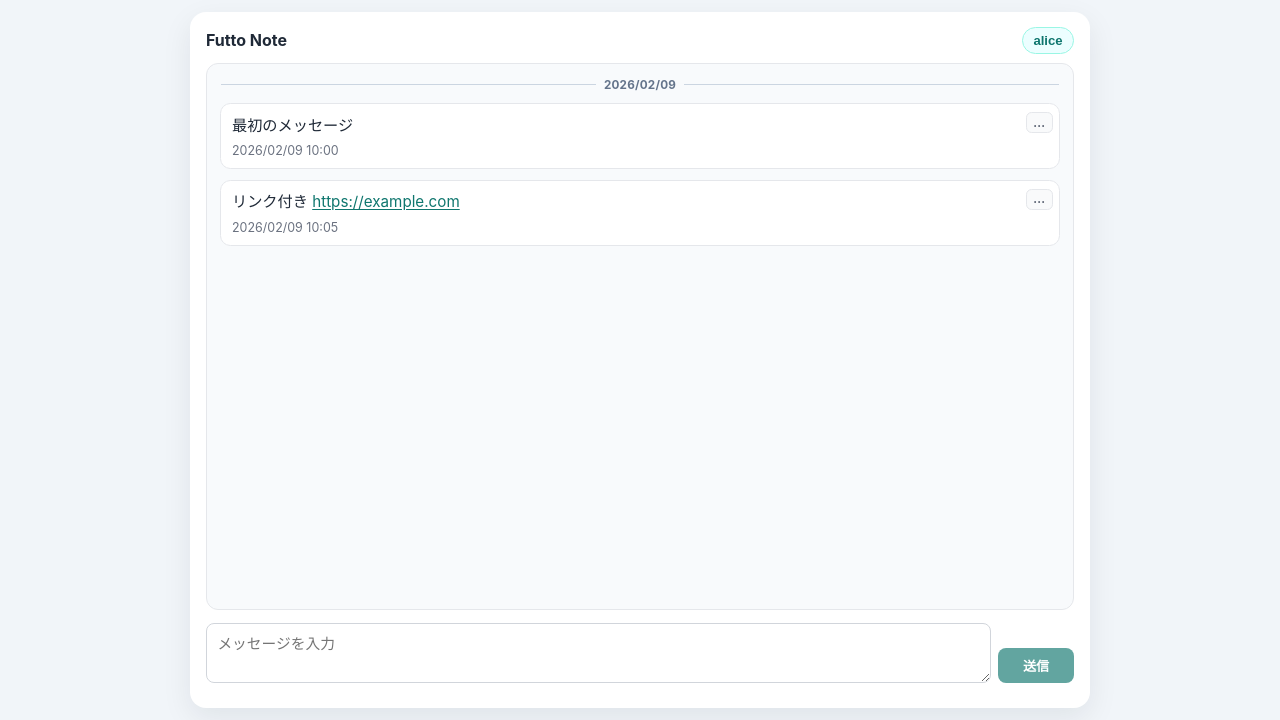
App › 送信成功時に入力をクリアし、タイムラインに追加して最新メッセージへスクロールする
Expected: the text "最初のメッセージ" is shown, [232,116,353,134]
Step 1. Type "送信成功メッセージ" into the text box named "メッセージ入力" → (598, 653), box [206,623,991,683]
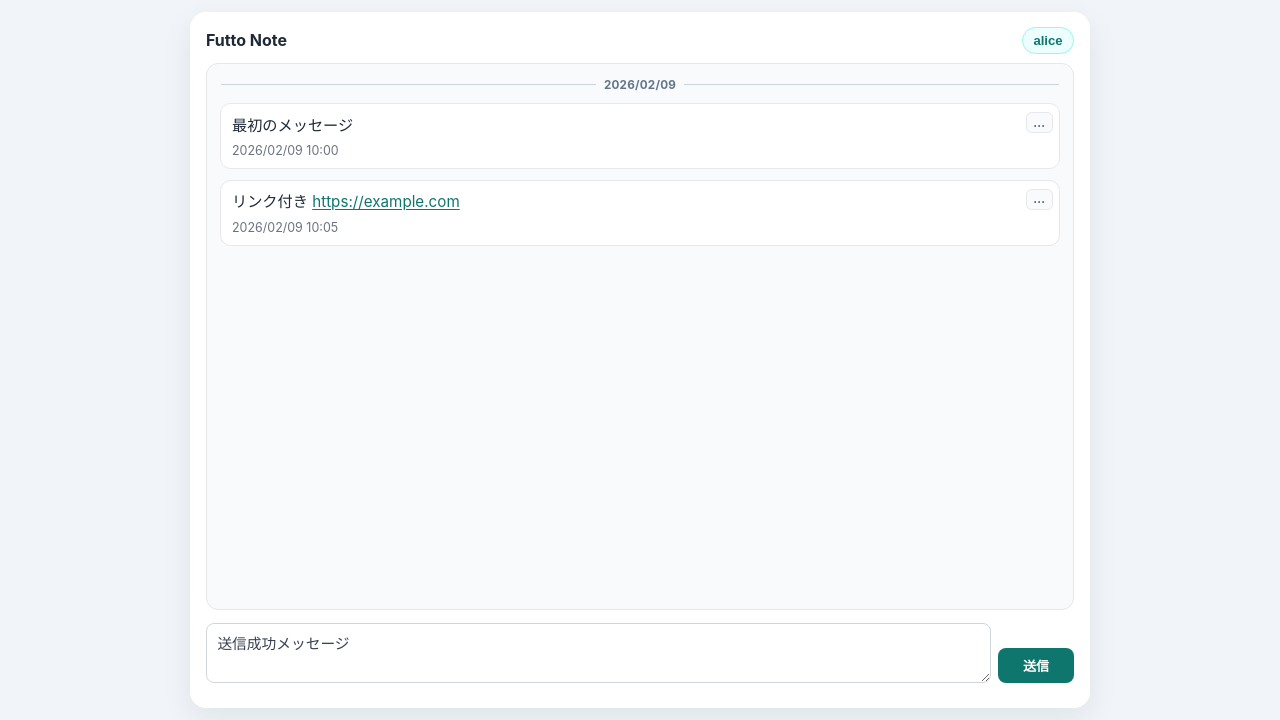
Step 2. Click the button "送信" → (1036, 666), box [998,648,1074,683]
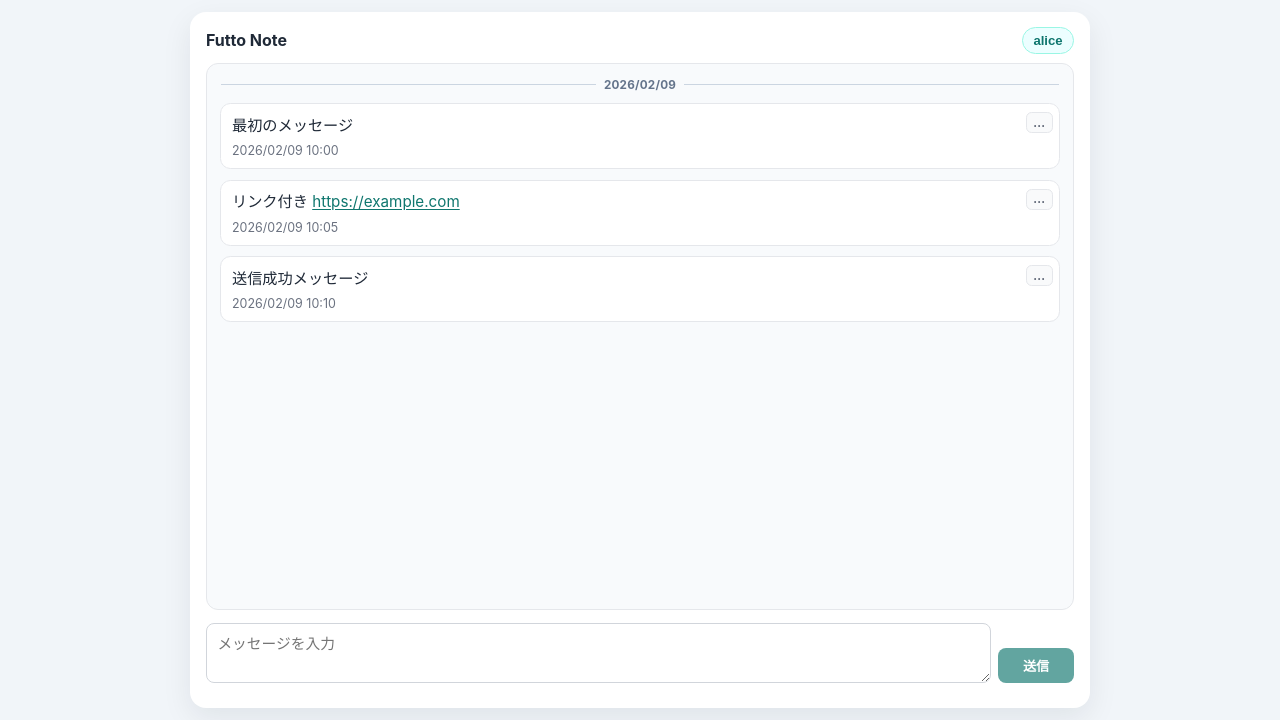
Result: the text box named "メッセージ入力" is empty at [206,623,991,683]
Result: the text "送信成功メッセージ" is shown at [232,269,368,288]
